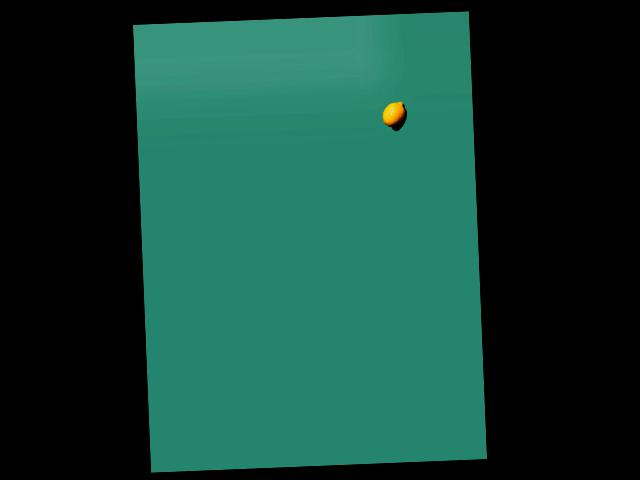lemon: (382, 99, 409, 133)
